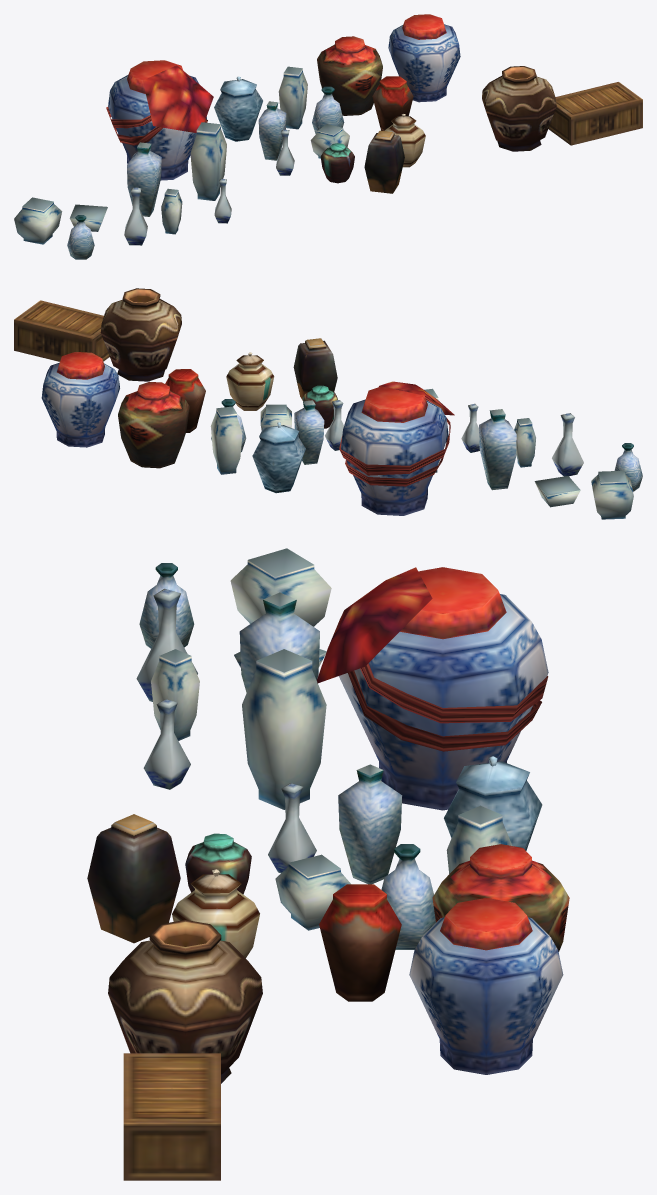
Rendered from jiu_ping_001.FBX.
3 views of the same model, one above another, from view 1: azimuth 30°, elevation 25°; view 2: azimuth 150°, elevation 25°; view 3: azimuth 270°, elevation 25° (orthographic). The views are drawn at different scales.
Parts seen in each view (by area): view 1: jiu_ping_001_o, jiu_ping_001_b, jiu_ping_001_c, jiu_ping_001_a, jiu_ping_001_e, jiu_ping_001_p, jiu_ping_001_l, jiu_ping_001_h, jiu_ping_001_r, jiu_ping_001_w, jiu_ping_001_d, jiu_ping_001_i (+11 smaller); view 2: jiu_ping_001_o, jiu_ping_001_b, jiu_ping_001_c, jiu_ping_001_e, jiu_ping_001_a, jiu_ping_001_l, jiu_ping_001_r, jiu_ping_001_f, jiu_ping_001_h, jiu_ping_001_w, jiu_ping_001_i, jiu_ping_001_m (+9 smaller); view 3: jiu_ping_001_o, jiu_ping_001_c, jiu_ping_001_b, jiu_ping_001_a, jiu_ping_001_p, jiu_ping_001_h, jiu_ping_001_d, jiu_ping_001_e, jiu_ping_001_m, jiu_ping_001_l, jiu_ping_001_w, jiu_ping_001_f (+10 smaller).
Boxes of the visible parts, x1,y1,x2,y2 form: jiu_ping_001_o: (106,60,213,180); jiu_ping_001_b: (482,66,556,151); jiu_ping_001_c: (388,14,460,102); jiu_ping_001_a: (548,82,642,145); jiu_ping_001_e: (317,36,382,115); jiu_ping_001_p: (190,122,226,200); jiu_ping_001_l: (214,76,262,141); jiu_ping_001_h: (364,130,404,193); jiu_ping_001_r: (127,142,161,216); jiu_ping_001_w: (14,197,62,244); jiu_ping_001_d: (372,76,413,130); jiu_ping_001_i: (278,66,307,129); jiu_ping_001_o: (339,381,454,515); jiu_ping_001_b: (100,288,181,381); jiu_ping_001_c: (41,352,119,447); jiu_ping_001_e: (118,381,189,468); jiu_ping_001_a: (14,300,109,361); jiu_ping_001_l: (252,422,305,493); jiu_ping_001_r: (479,409,516,490); jiu_ping_001_f: (226,352,274,410); jiu_ping_001_h: (293,338,337,400); jiu_ping_001_w: (591,470,633,519); jiu_ping_001_i: (210,406,242,474); jiu_ping_001_m: (294,400,324,464); jiu_ping_001_o: (316,567,548,810); jiu_ping_001_c: (409,898,563,1074); jiu_ping_001_b: (108,920,262,1083); jiu_ping_001_a: (123,1053,220,1180); jiu_ping_001_p: (242,649,326,809); jiu_ping_001_h: (87,814,180,943); jiu_ping_001_d: (319,884,401,1001); jiu_ping_001_e: (432,844,569,951); jiu_ping_001_m: (338,764,402,884); jiu_ping_001_l: (444,756,542,850); jiu_ping_001_w: (230,548,331,626); jiu_ping_001_f: (172,869,259,958).
Size of the model in its own units: 662 by 111 by 235.
Materials: 1 (1 with a texture image).
